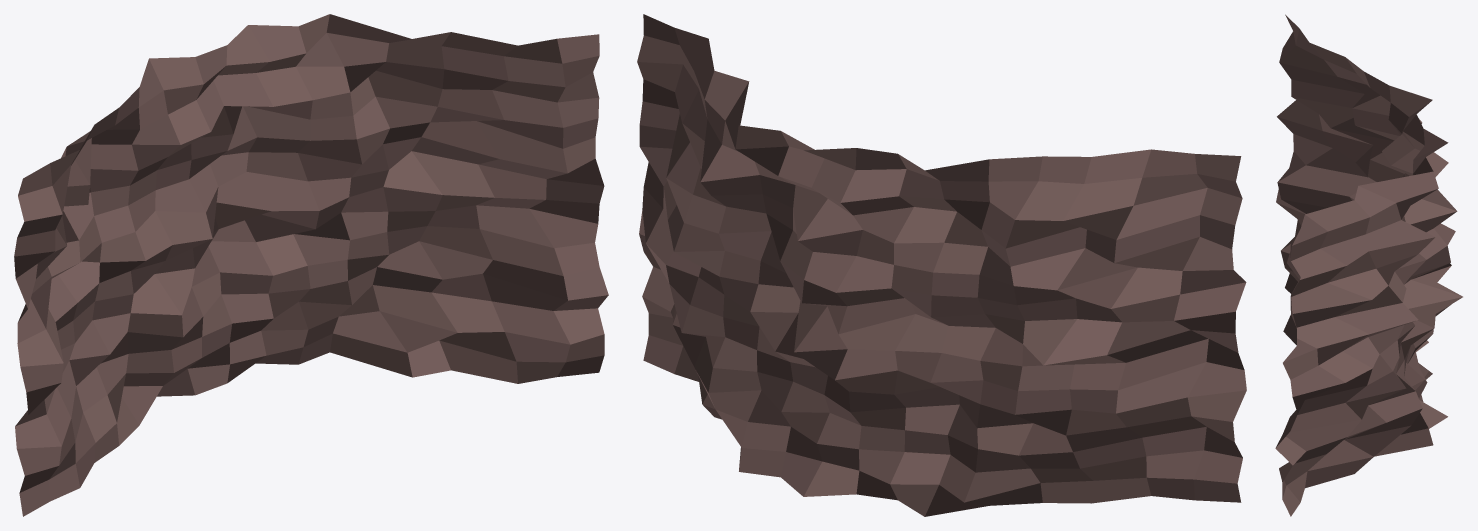
File: Cave Wall - Middle.fbx
3 renders of one model, left to right at view 1: azimuth 30°, elevation 25°; view 2: azimuth 150°, elevation 25°; view 3: azimuth 270°, elevation 25°, orthographic. The views are drawn at different scales.
Parts seen in each view (by area): view 1: Cave Wall 2.002; view 2: Cave Wall 2.002; view 3: Cave Wall 2.002.
Boxes of the visible parts, x1,y1,x2,y2 form: Cave Wall 2.002: (14, 14, 608, 516); Cave Wall 2.002: (637, 14, 1246, 516); Cave Wall 2.002: (1275, 14, 1462, 516).
Size of the model in its own units: 3318 by 1850 by 1152.
